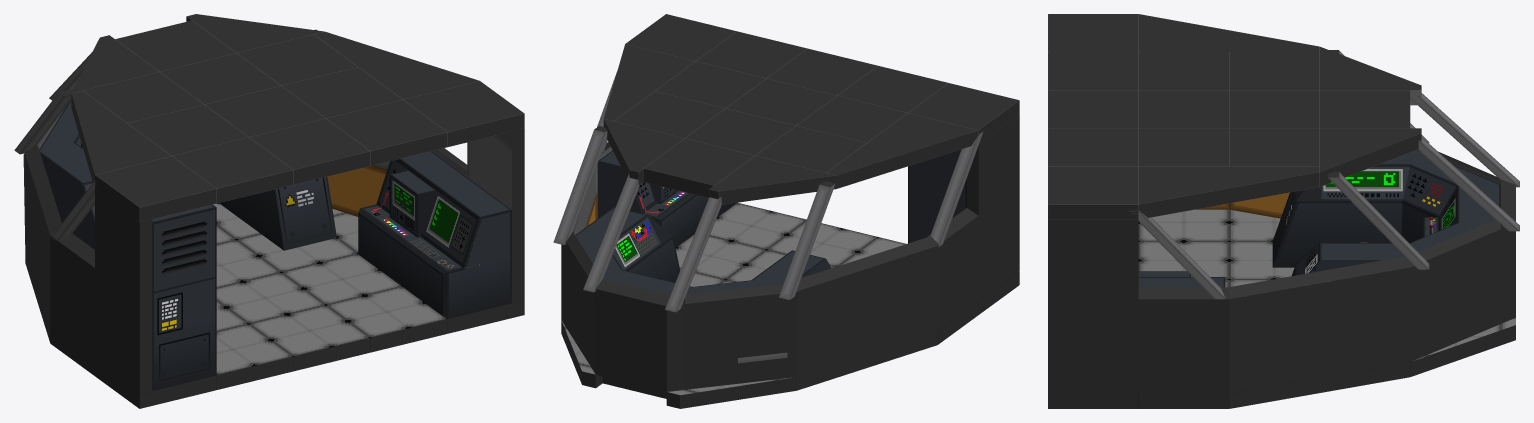
Rendered from ShipFlightDeck orange.obj.
3 renders of one model, left to right at view 1: azimuth 30°, elevation 25°; view 2: azimuth 150°, elevation 25°; view 3: azimuth 270°, elevation 25°, orthographic. The views are drawn at different scales.
Visible parts, largest first — view 1: Floor, cuboid; view 2: Floor, cuboid; view 3: Floor, cuboid.
Boxes of the visible parts, left/top/right/bottom form: Floor: left=23, top=14, right=524, bottom=408; cuboid: left=14, top=29, right=317, bottom=240; Floor: left=561, top=14, right=1019, bottom=408; cuboid: left=553, top=72, right=983, bottom=312; Floor: left=1048, top=14, right=1515, bottom=408; cuboid: left=1129, top=50, right=1519, bottom=299.
Bounding box in the file's own units: 5 × 2.5 × 5.23.
8 materials, 8 textured.
